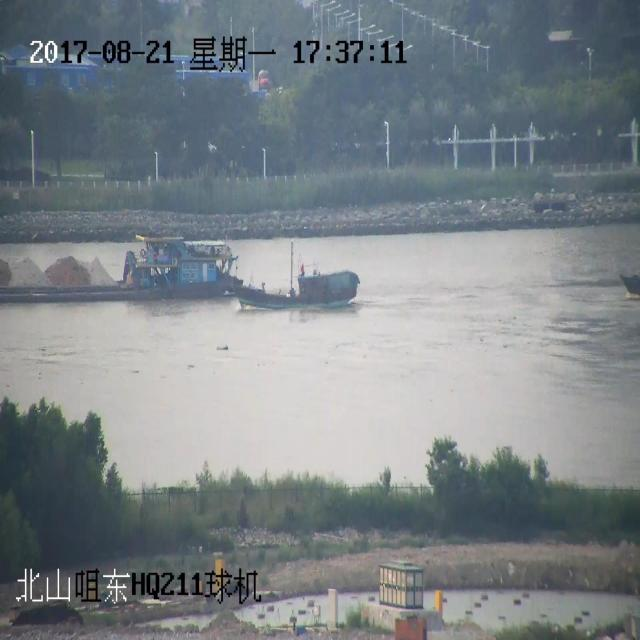cargoship: (0, 238, 222, 328)
fishing boat: (222, 260, 365, 333)
